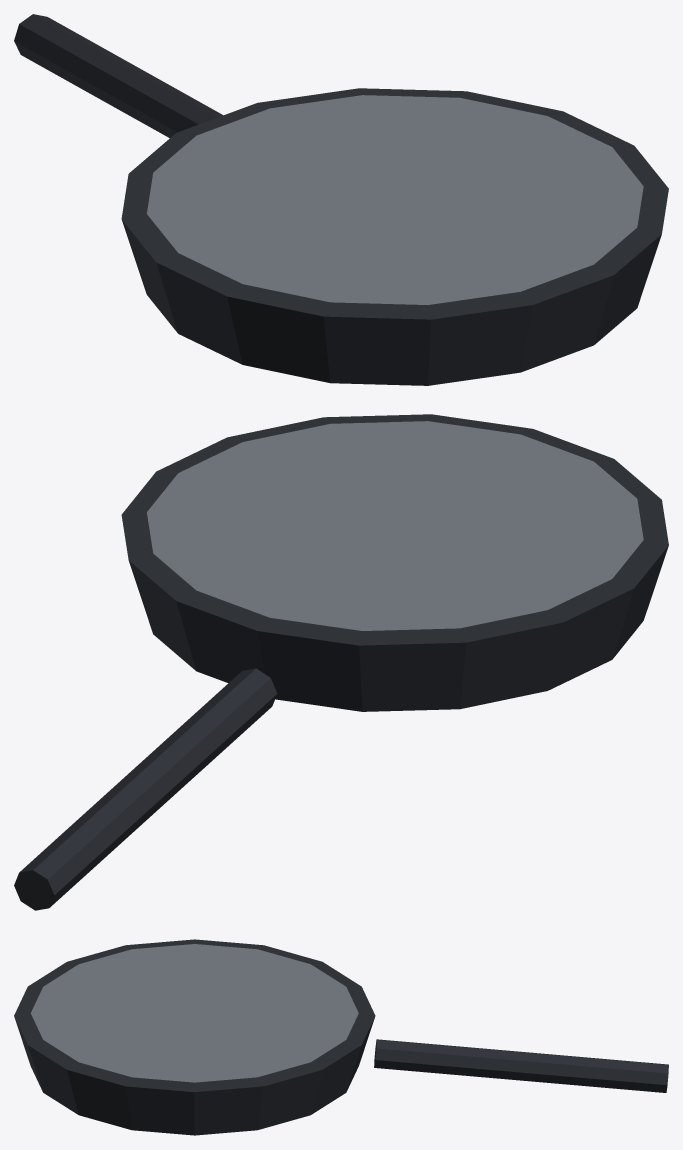
The model's file is frying_pan.glb.
3 renders of one model, top to bottom at view 1: azimuth 30°, elevation 25°; view 2: azimuth 150°, elevation 25°; view 3: azimuth 270°, elevation 25°, orthographic. The views are drawn at different scales.
Parts seen in each view (by area): view 1: frying_pan_mesh; view 2: frying_pan_mesh; view 3: frying_pan_mesh.
Part boxes in pixels (<box>): frying_pan_mesh: <box>14,14,668,385</box>; frying_pan_mesh: <box>14,414,668,910</box>; frying_pan_mesh: <box>14,939,668,1135</box>.
Size of the model in its own units: 0.26 by 0.063 by 0.471.
Materials: 1 (1 with a texture image).
